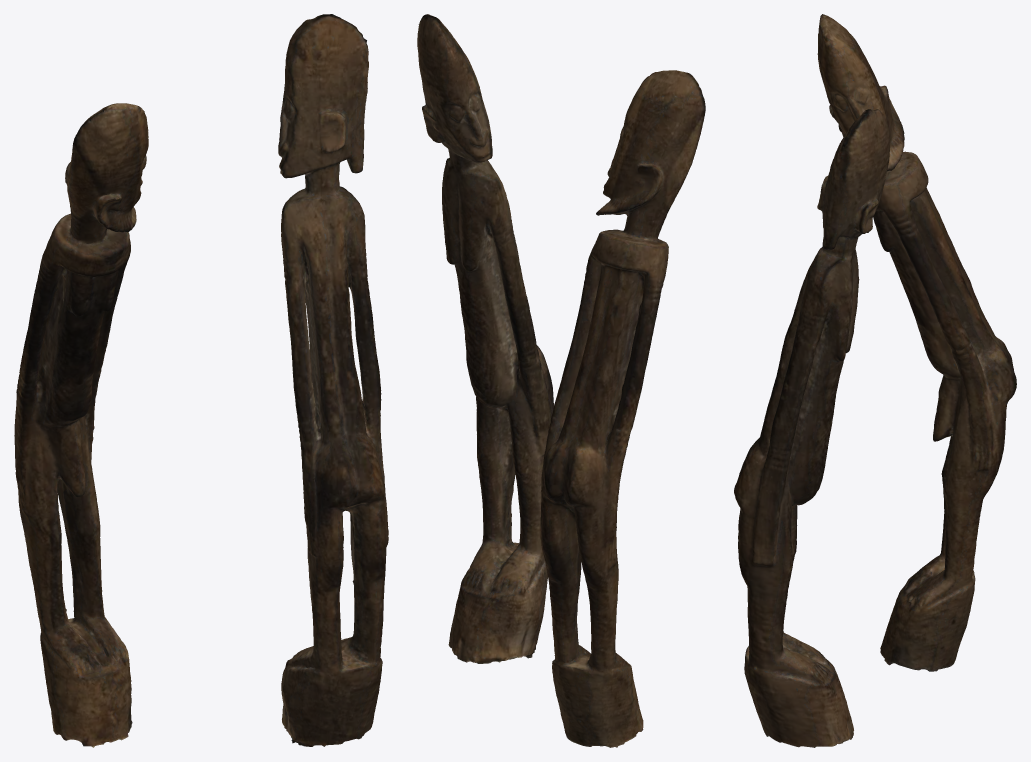
File: preview.glb
The picture shows the model from 3 angles, left to right: view 1: azimuth 30°, elevation 25°; view 2: azimuth 150°, elevation 25°; view 3: azimuth 270°, elevation 25°; orthographic projection. The views are drawn at different scales.
Visible parts, largest first — view 1: Object_2; view 2: Object_2; view 3: Object_2.
Boxes of the visible parts, x1,y1,x2,y2 form: Object_2: [14, 14, 388, 747]; Object_2: [417, 14, 705, 747]; Object_2: [734, 14, 1016, 747].
Size of the model in its own units: 329 by 726 by 290.
Materials: 1 (1 with a texture image).
